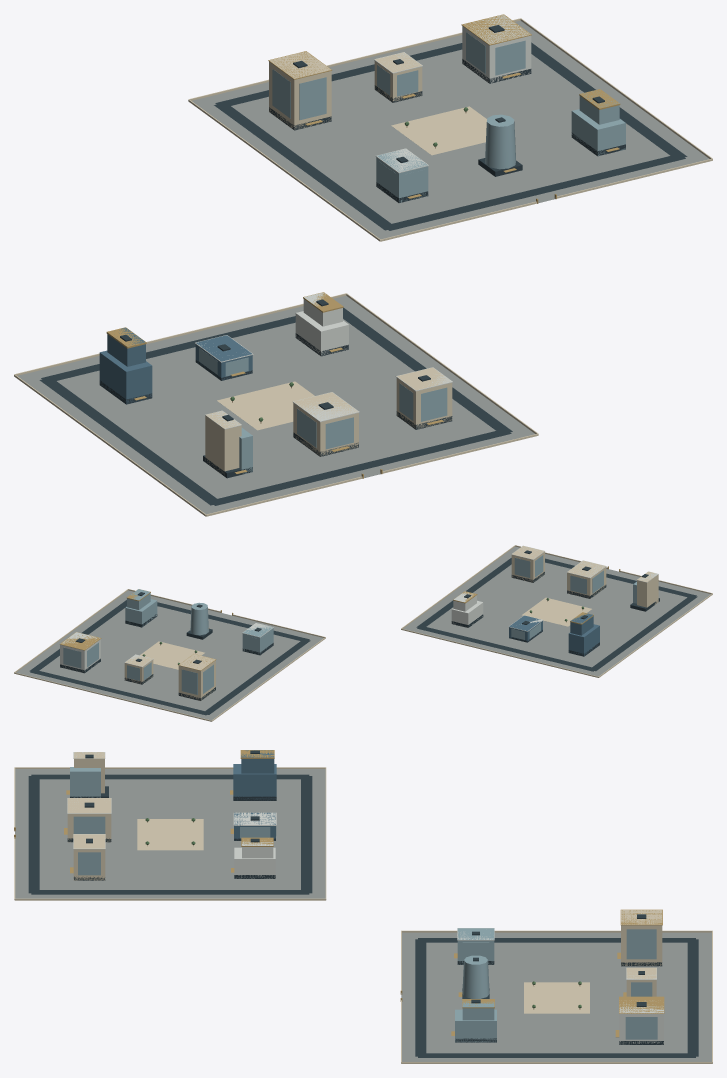
Rendered from GC-TILE-18-11.glb.
3 views of the same model, one above another, from view 1: azimuth 30°, elevation 25°; view 2: azimuth 150°, elevation 25°; view 3: azimuth 270°, elevation 25° (orthographic). The views are drawn at different scales.
Visible parts, largest first — view 1: GC-TILE-18-11-paving, GC-TILE-18-11-ivory, GC-TILE-18-11-dark, GC-TILE-18-11-glass, GC-TILE-18-11-white, GC-TILE-18-11-blue, GC-TILE-18-11-gold; view 2: GC-TILE-18-11-paving, GC-TILE-18-11-ivory, GC-TILE-18-11-dark, GC-TILE-18-11-glass, GC-TILE-18-11-white, GC-TILE-18-11-blue, GC-TILE-18-11-gold; view 3: GC-TILE-18-11-paving, GC-TILE-18-11-ivory, GC-TILE-18-11-dark, GC-TILE-18-11-glass, GC-TILE-18-11-white, GC-TILE-18-11-gold, GC-TILE-18-11-blue.
Part boxes in pixels (x1,y1,x2,y2): GC-TILE-18-11-paving: (17, 20, 709, 514); GC-TILE-18-11-ivory: (14, 18, 712, 516); GC-TILE-18-11-dark: (39, 25, 687, 505); GC-TILE-18-11-glass: (199, 32, 625, 473); GC-TILE-18-11-white: (195, 14, 531, 429); GC-TILE-18-11-blue: (99, 327, 252, 404); GC-TILE-18-11-gold: (106, 14, 620, 478); GC-TILE-18-11-paving: (16, 546, 710, 720); GC-TILE-18-11-ivory: (14, 545, 712, 721); GC-TILE-18-11-dark: (29, 550, 697, 715); GC-TILE-18-11-glass: (63, 555, 636, 694); GC-TILE-18-11-white: (60, 545, 658, 672); GC-TILE-18-11-blue: (509, 613, 599, 656); GC-TILE-18-11-gold: (59, 566, 620, 670); GC-TILE-18-11-paving: (15, 769, 711, 1061); GC-TILE-18-11-ivory: (14, 752, 712, 1063); GC-TILE-18-11-dark: (28, 750, 698, 1057); GC-TILE-18-11-glass: (70, 767, 657, 1042); GC-TILE-18-11-white: (67, 752, 663, 1044); GC-TILE-18-11-gold: (14, 750, 664, 1037); GC-TILE-18-11-blue: (233, 750, 276, 840).
Bounding box in the file's own units: 759 × 52.89 × 760.
